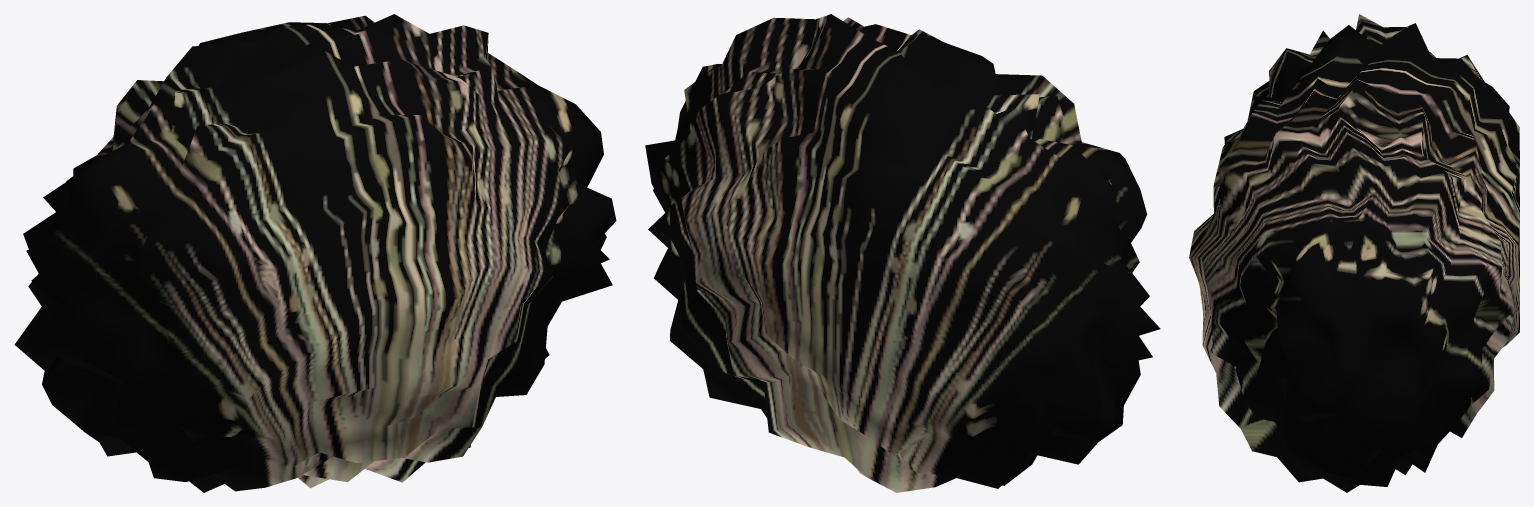
File: PZ_ALP_09_Jagged_Granite_Rock.glb
The picture shows the model from 3 angles, left to right: view 1: azimuth 30°, elevation 25°; view 2: azimuth 150°, elevation 25°; view 3: azimuth 270°, elevation 25°; orthographic projection. The views are drawn at different scales.
Parts seen in each view (by area): view 1: RockBody_WatertightFaceted; view 2: RockBody_WatertightFaceted; view 3: RockBody_WatertightFaceted.
Part boxes in pixels (<box>): RockBody_WatertightFaceted: <box>14,14,616,492</box>; RockBody_WatertightFaceted: <box>645,14,1160,492</box>; RockBody_WatertightFaceted: <box>1189,14,1519,492</box>.
Bounding box in the file's own units: 1.81 × 1.44 × 1.06.
Materials: 1 (1 with a texture image).
